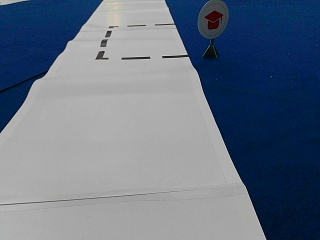school: (196, 2, 229, 38)
